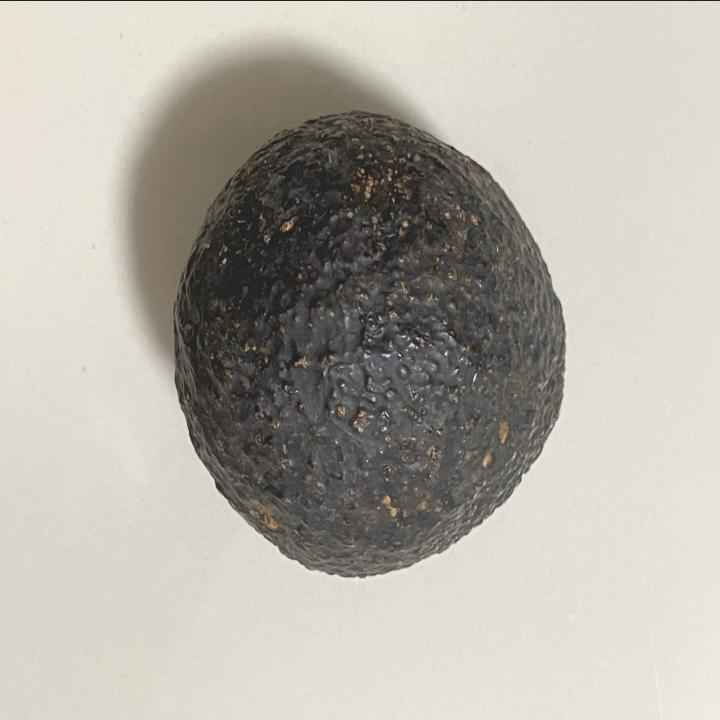Level2: (168, 99, 576, 586)
